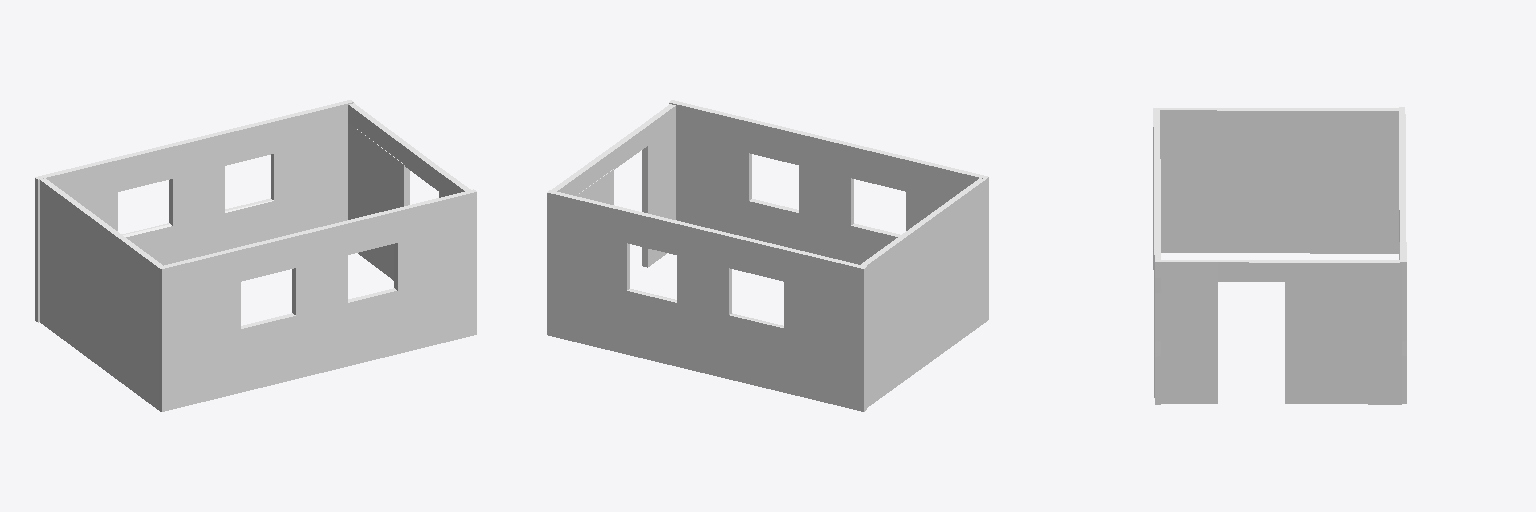
File: HutMain.obj
3 views of the same model, side by side, from view 1: azimuth 30°, elevation 25°; view 2: azimuth 150°, elevation 25°; view 3: azimuth 270°, elevation 25° (orthographic).
Parts seen in each view (by area): view 1: house.001; view 2: house.001; view 3: house.001.
Part boxes in pixels (x1,y1,x2,y2): house.001: (35, 100, 476, 411); house.001: (547, 100, 988, 411); house.001: (1153, 107, 1406, 404).
Size of the model in its own units: 27.25 by 11.74 by 18.86.